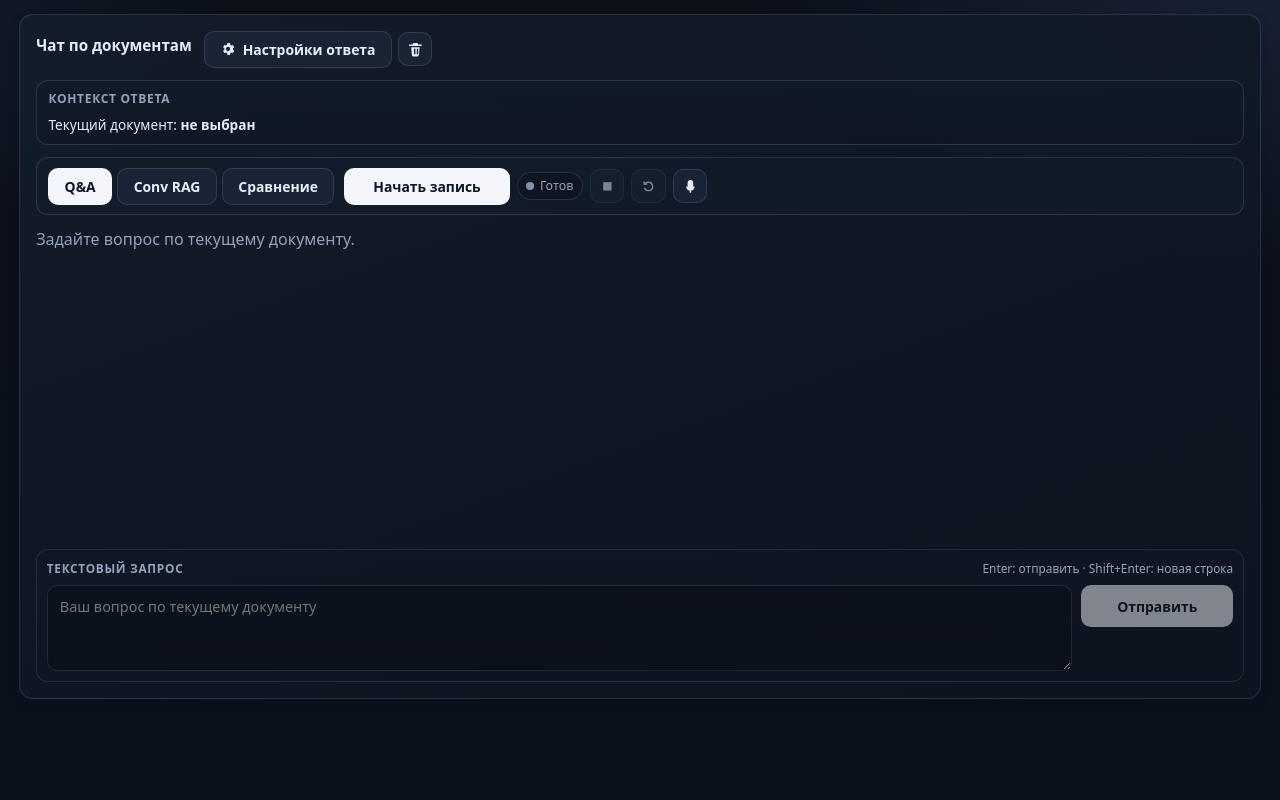
Test: ChatPanel smoke › does not open voice modal on Enter text send
In the text box with placeholder "Ваш вопрос по текущему документу": {"x": 560, "y": 628} [47, 585, 1072, 671], type "Проверь по документу"
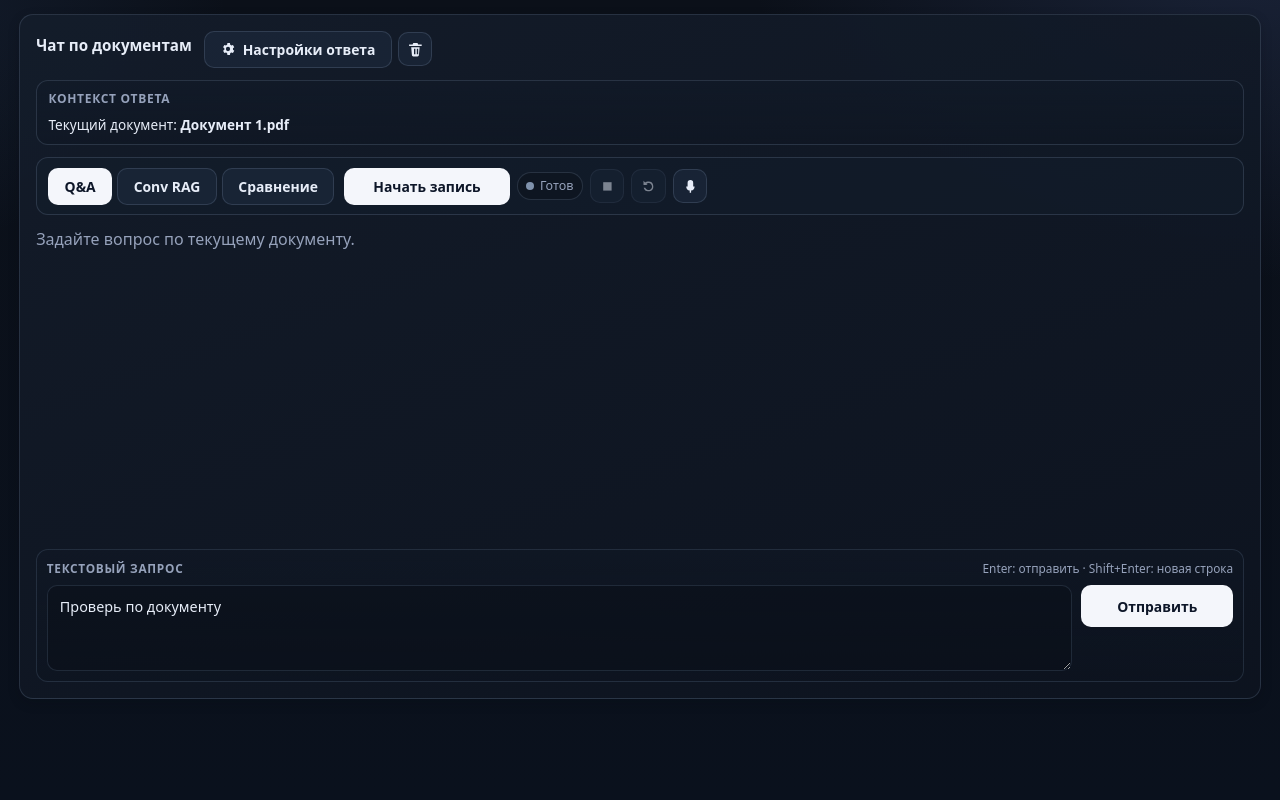
Press Enter in the text box with placeholder "Ваш вопрос по текущему документу", box [47, 585, 1072, 671]
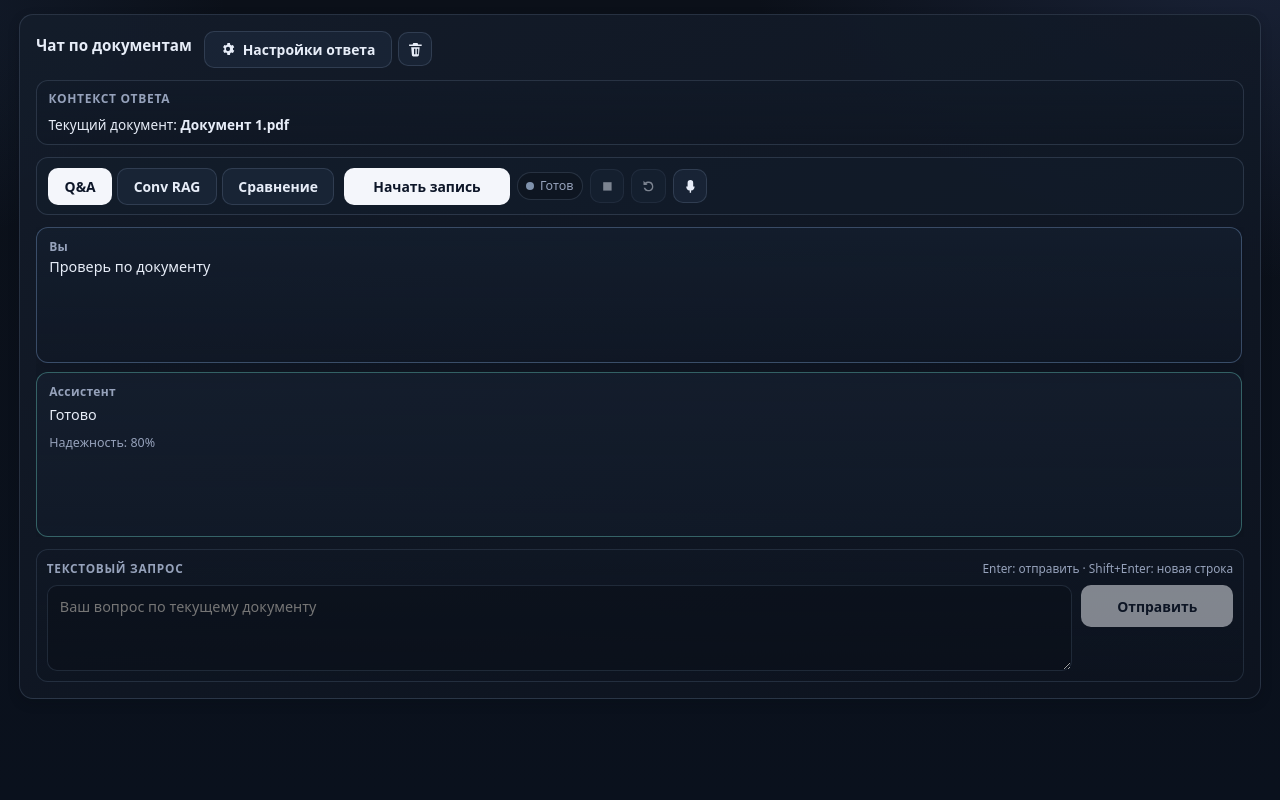
Now the text "Готово" is shown, box [49, 405, 97, 424]
